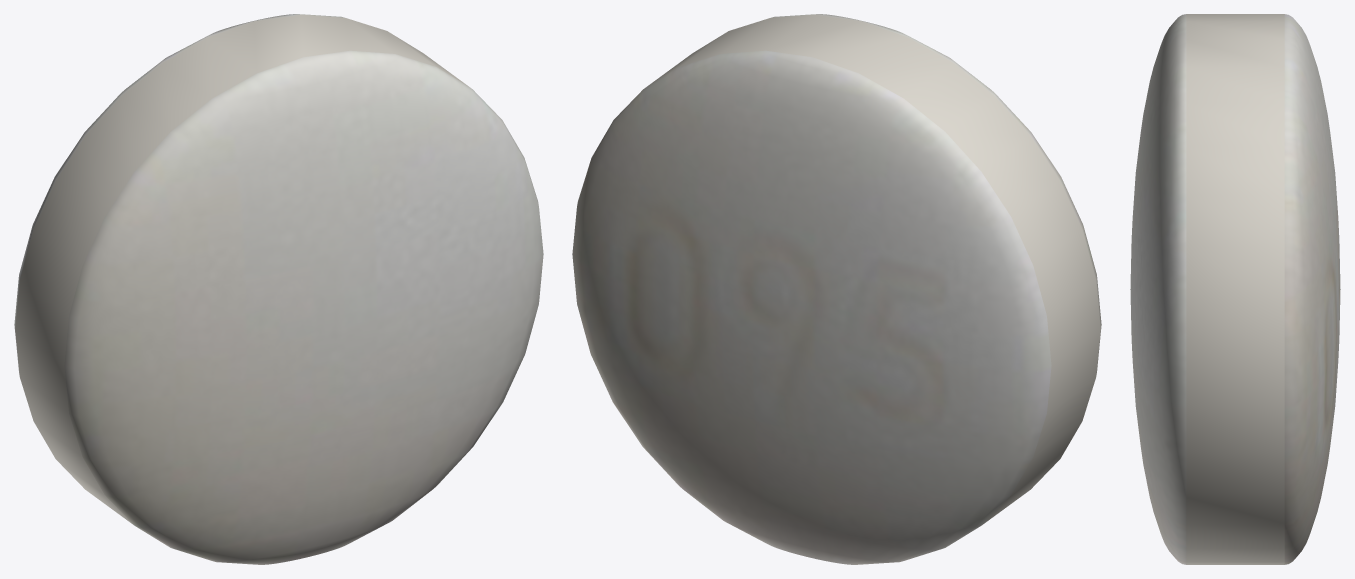
Rendered from 20140311GOPHDRGPT02260.fbx.
3 renders of one model, left to right at view 1: azimuth 30°, elevation 25°; view 2: azimuth 150°, elevation 25°; view 3: azimuth 270°, elevation 25°, orthographic.
Visible parts, largest first — view 1: 球體.002; view 2: 球體.002; view 3: 球體.002.
Boxes of the visible parts, left/top/right/bottom form: 球體.002: left=14, top=14, right=543, bottom=564; 球體.002: left=572, top=14, right=1101, bottom=564; 球體.002: left=1130, top=14, right=1340, bottom=564.
Bounding box in the file's own units: 0.6433 × 0.6433 × 0.245.
1 material, 1 textured.
